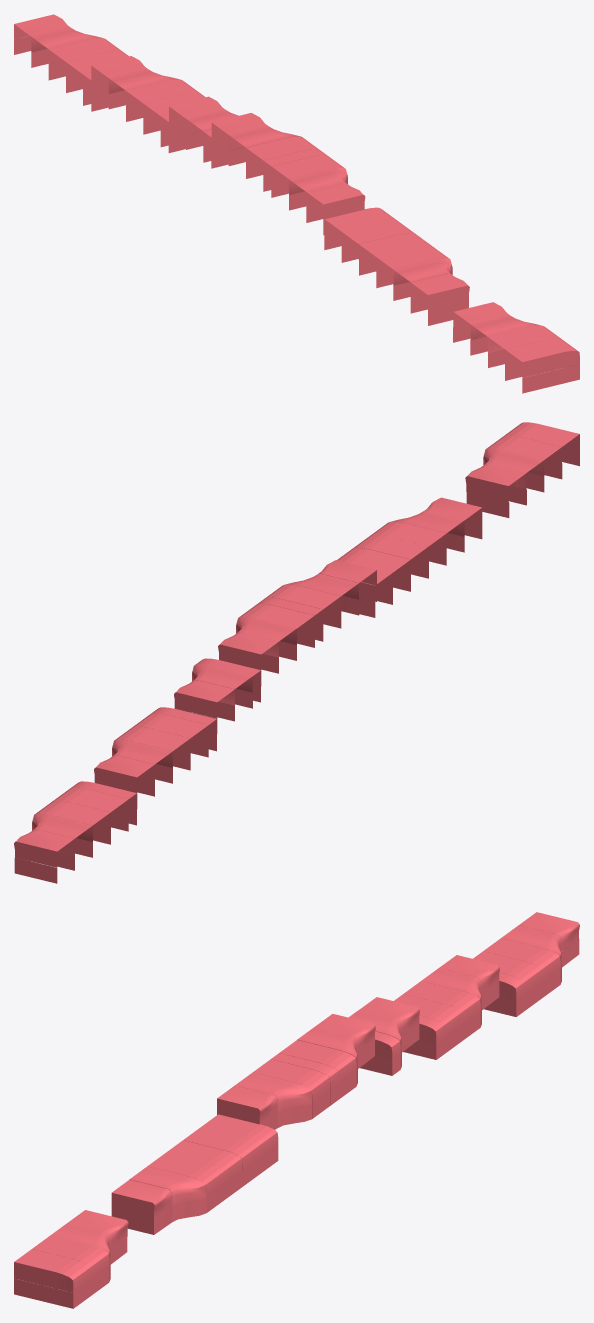
File: base exterior para unity .fbx
The picture shows the model from 3 angles, top to bottom: view 1: azimuth 30°, elevation 25°; view 2: azimuth 150°, elevation 25°; view 3: azimuth 330°, elevation 25°; orthographic projection. The views are drawn at different scales.
Visible parts, largest first — view 1: Cube.103, Cube.002, Cube.008, Cube.058, Cube.004, Cube.013, Cube.010, Cube.011, Cube.024, Cube.021, Cube.029, Cube.031 (+20 smaller); view 2: Cube.025, Cube.109, Cube.019, Cube.017, Cube.015, Cube.013, Cube.030, Cube.016, Cube.014, Cube.027, Cube.011, Cube.022 (+21 smaller); view 3: Cube.103, Cube.002, Cube.008, Cube.003, Cube.009, Cube.030, Cube.010, Cube.004, Cube.024, Cube.021, Cube.013, Cube.029 (+25 smaller).
Part boxes in pixels (x1=…): Cube.103: x1=505, y1=338, x2=579, y2=377; Cube.002: x1=410, y1=273, x2=469, y2=310; Cube.008: x1=306, y1=182, x2=365, y2=219; Cube.058: x1=505, y1=361, x2=579, y2=393; Cube.004: x1=376, y1=245, x2=449, y2=285; Cube.013: x1=488, y1=325, x2=560, y2=364; Cube.010: x1=246, y1=136, x2=319, y2=163; Cube.011: x1=271, y1=155, x2=344, y2=182; Cube.024: x1=48, y1=38, x2=121, y2=64; Cube.021: x1=126, y1=79, x2=199, y2=106; Cube.029: x1=359, y1=233, x2=432, y2=259; Cube.031: x1=325, y1=207, x2=397, y2=247; Cube.025: x1=14, y1=829, x2=74, y2=867; Cube.109: x1=465, y1=463, x2=526, y2=502; Cube.019: x1=94, y1=755, x2=154, y2=793; Cube.017: x1=174, y1=680, x2=234, y2=718; Cube.015: x1=218, y1=632, x2=278, y2=670; Cube.013: x1=486, y1=435, x2=561, y2=476; Cube.030: x1=337, y1=547, x2=410, y2=588; Cube.016: x1=192, y1=664, x2=252, y2=705; Cube.014: x1=236, y1=616, x2=296, y2=657; Cube.027: x1=52, y1=787, x2=128, y2=828; Cube.011: x1=265, y1=584, x2=341, y2=612; Cube.022: x1=132, y1=713, x2=208, y2=741; Cube.103: x1=14, y1=1249, x2=91, y2=1292; Cube.002: x1=111, y1=1179, x2=172, y2=1218; Cube.008: x1=217, y1=1085, x2=277, y2=1124; Cube.003: x1=129, y1=1166, x2=206, y2=1206; Cube.009: x1=235, y1=1072, x2=311, y2=1112; Cube.030: x1=183, y1=1127, x2=260, y2=1170; Cube.010: x1=279, y1=1040, x2=356, y2=1083; Cube.004: x1=147, y1=1153, x2=224, y2=1196; Cube.024: x1=483, y1=938, x2=560, y2=981; Cube.021: x1=404, y1=981, x2=480, y2=1024; Cube.013: x1=32, y1=1236, x2=109, y2=1279; Cube.029: x1=165, y1=1140, x2=242, y2=1183.
Size of the model in its own units: 789 by 998 by 11800.
